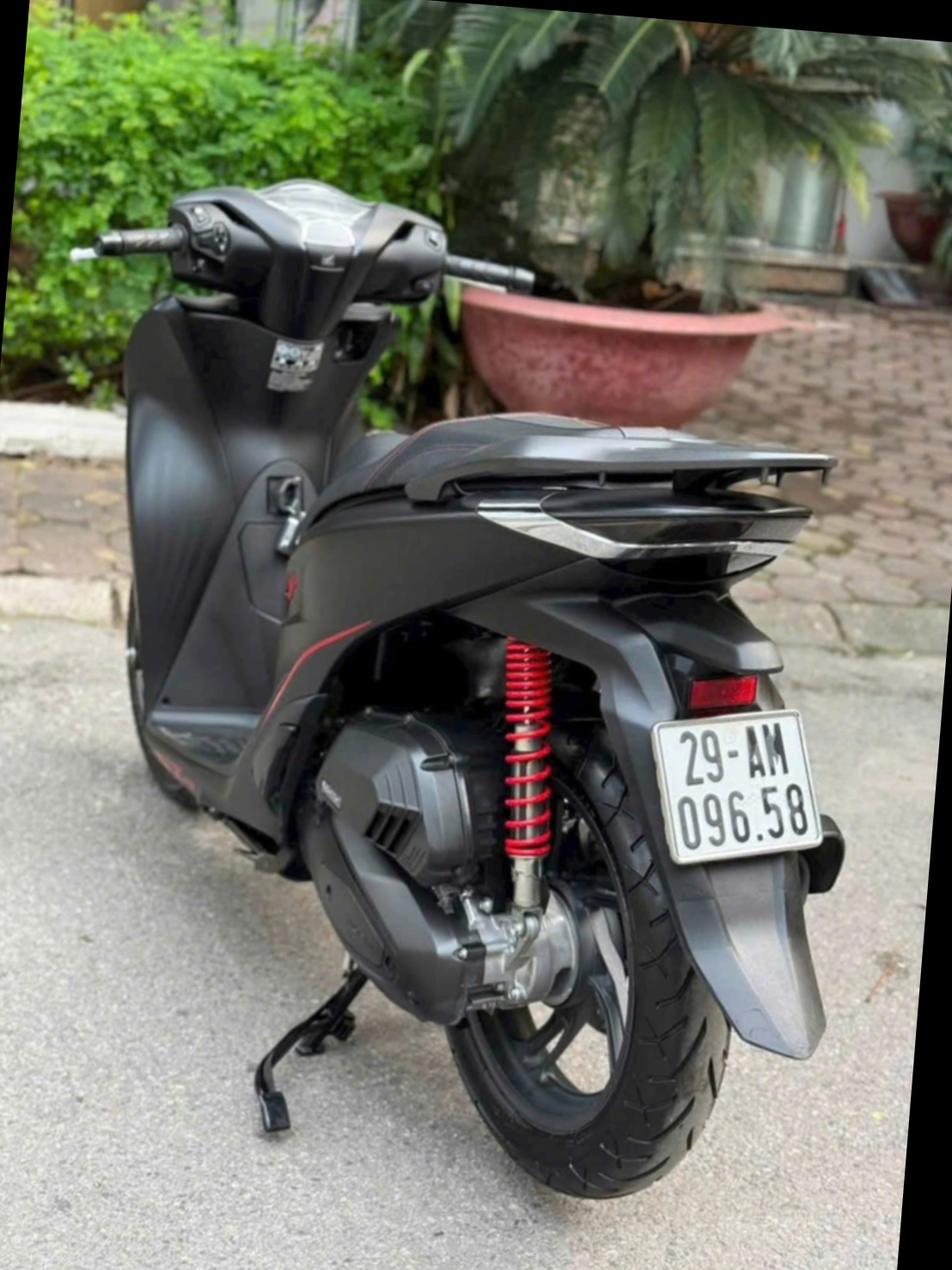Bien-so: (699, 671, 882, 839)
